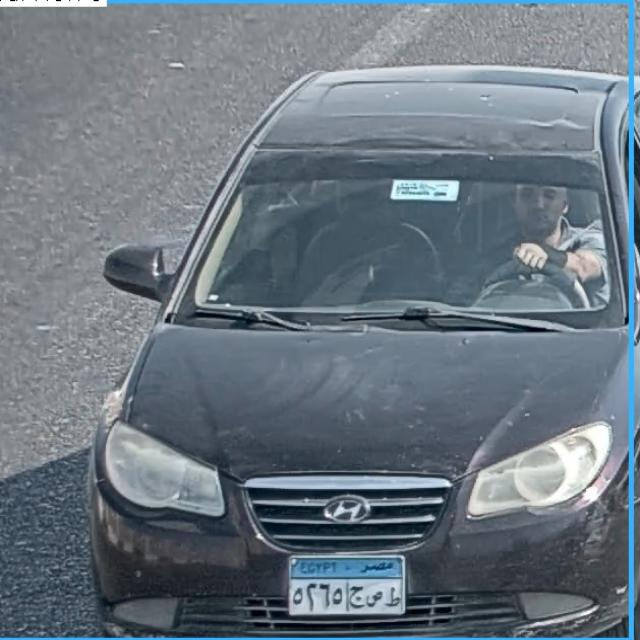windshield: (158, 149, 618, 322)
